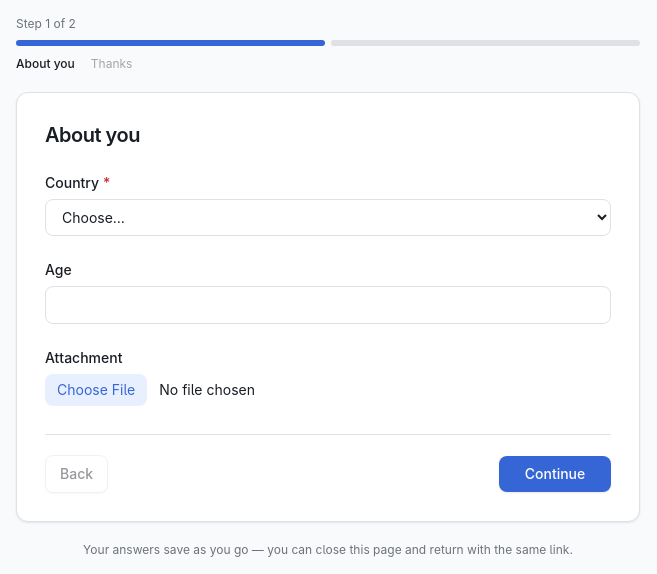
Test: conditional logic › reveals a dependent section once its condition is met
expect the heading "About you" is shown: met, box [45,123,140,147]
expect the text "Step 1 of 2" is shown: met, box [16,16,76,32]
Select "Saudi Arabia" in the dropdown labelled "Country*" at (328, 218), box [45,199,611,236]
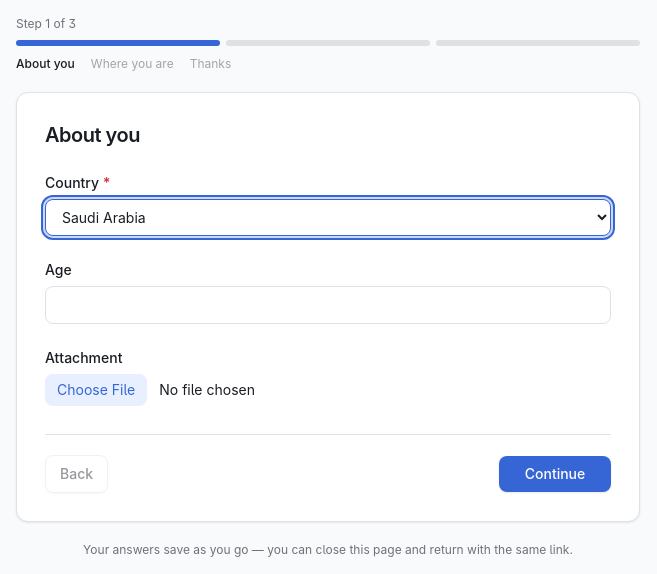
expect the text "Step 1 of 3" is shown: met, box [16,16,76,32]
